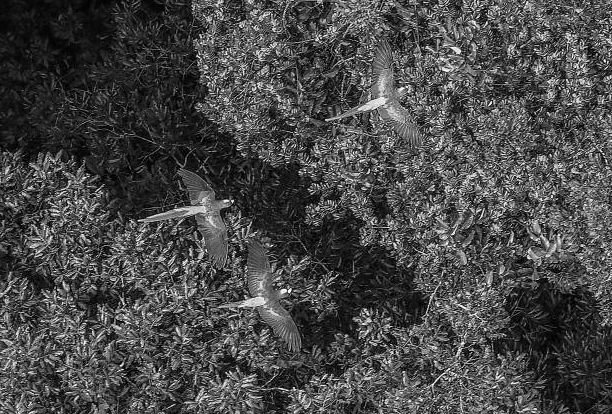Bird: (323, 38, 425, 151), (137, 166, 239, 274), (219, 232, 302, 354)
